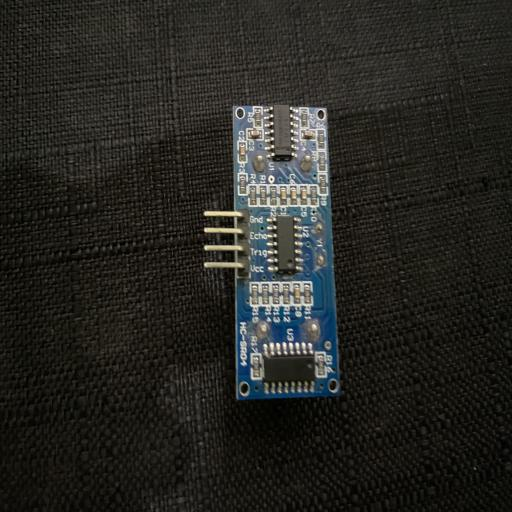Ultrasonic Sensor: (203, 103, 342, 402)
